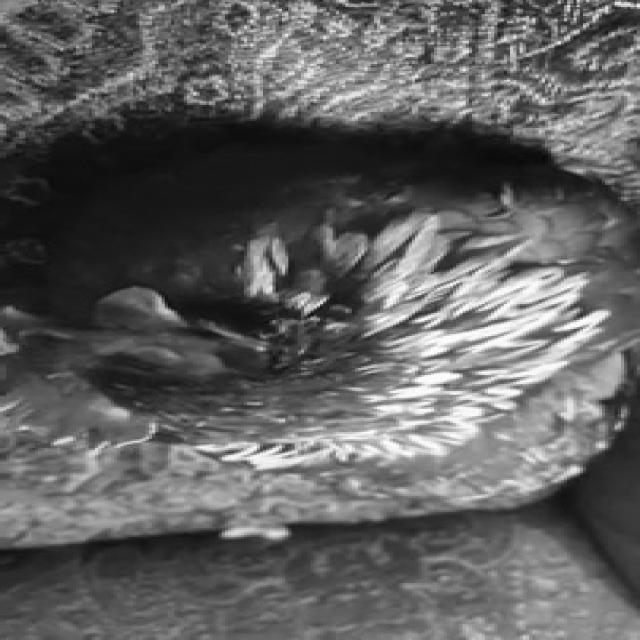sleeping chickens: (0, 114, 637, 508)
